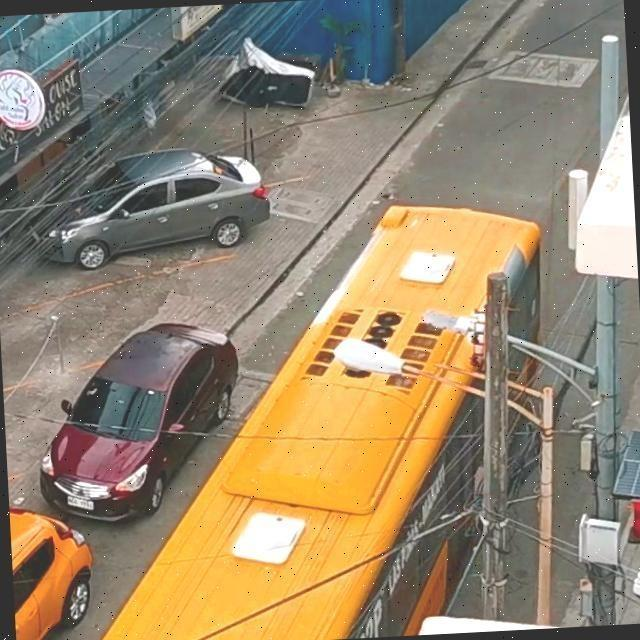Others: (44, 219, 516, 640)
